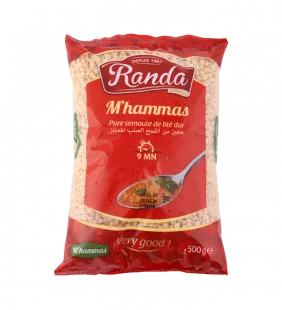RANDA: (44, 28, 236, 284)
